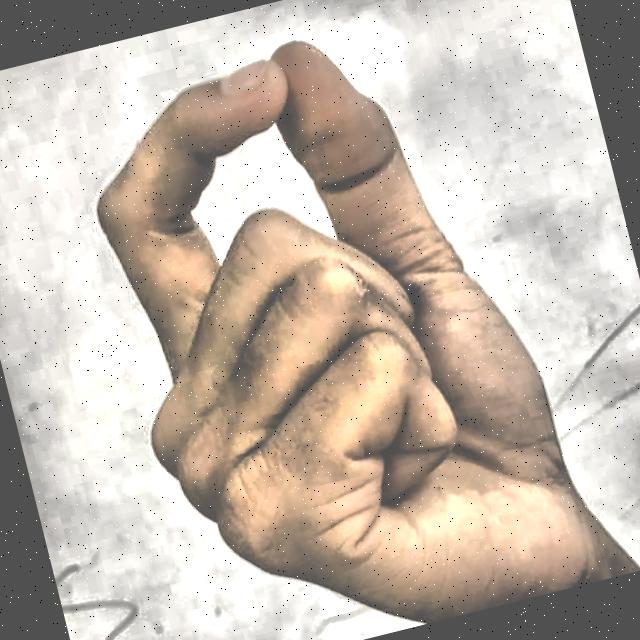Gha: (23, 0, 640, 640)
